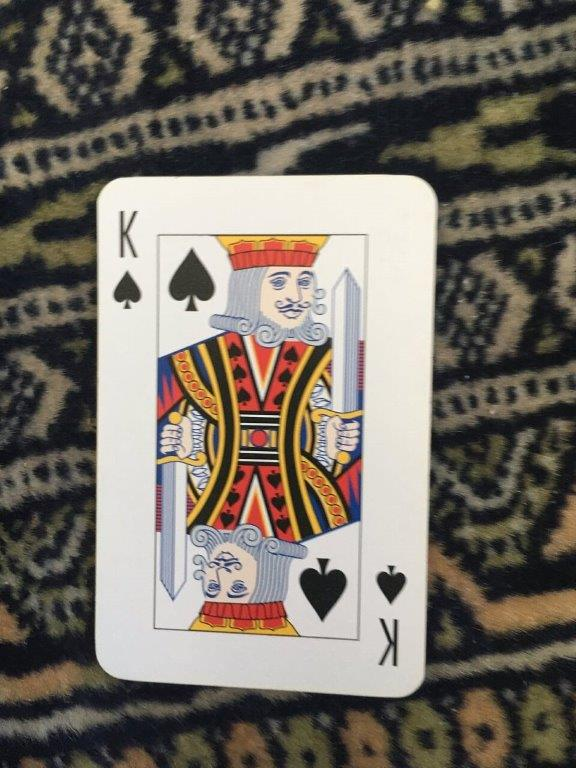KS: (91, 171, 443, 702)
